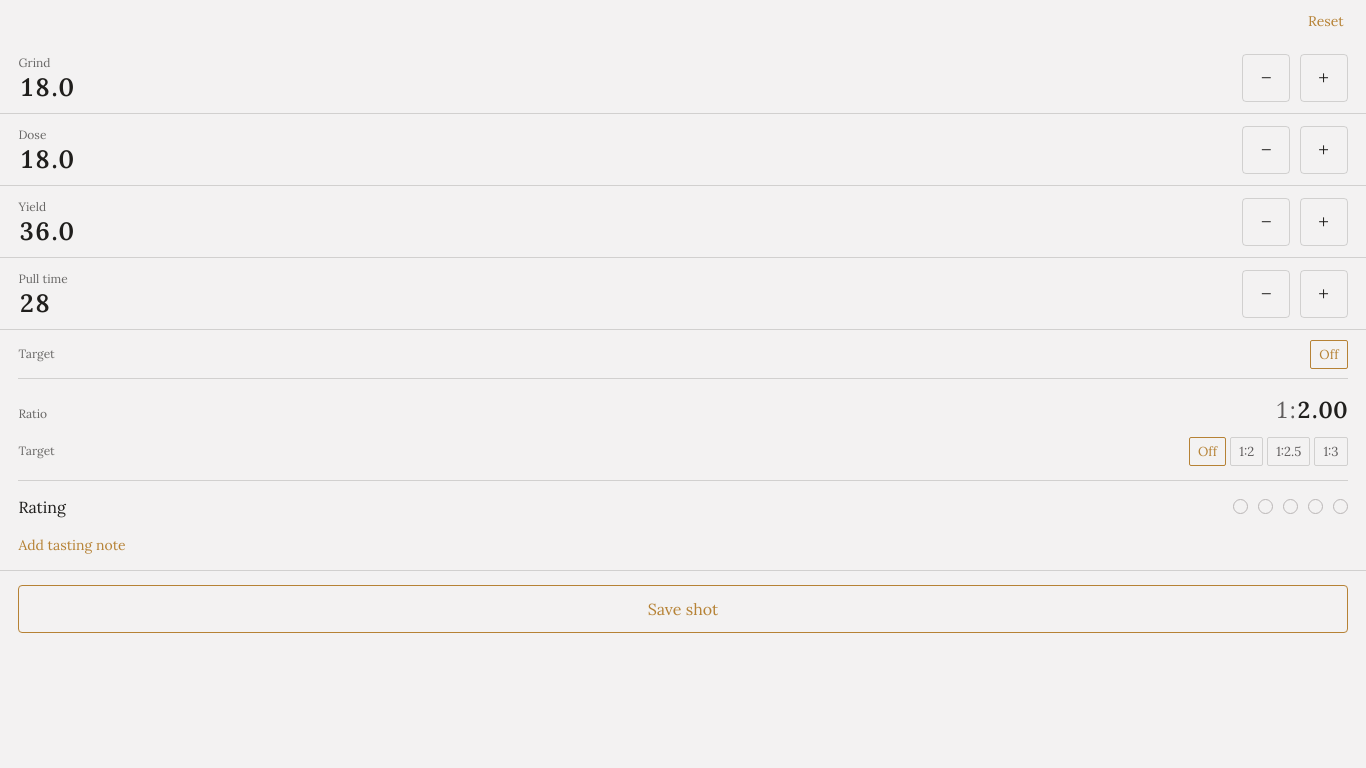
Scenario: ShotForm › clears the delta when a nudge returns the value to the reference
Click the button named "Increase dose" at (1324,150), box [1300,126,1348,174]
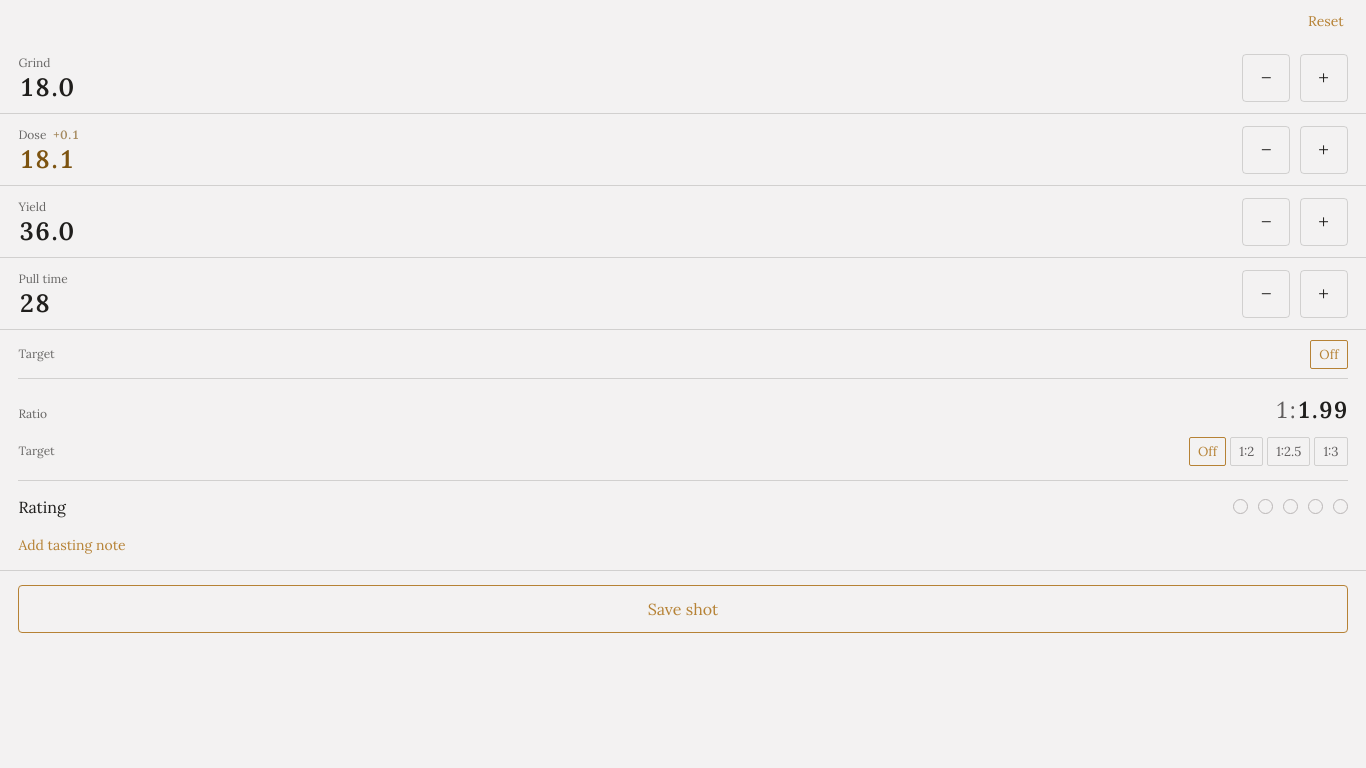
Click the button named "Decrease dose" at (1266,150), box [1242,126,1290,174]
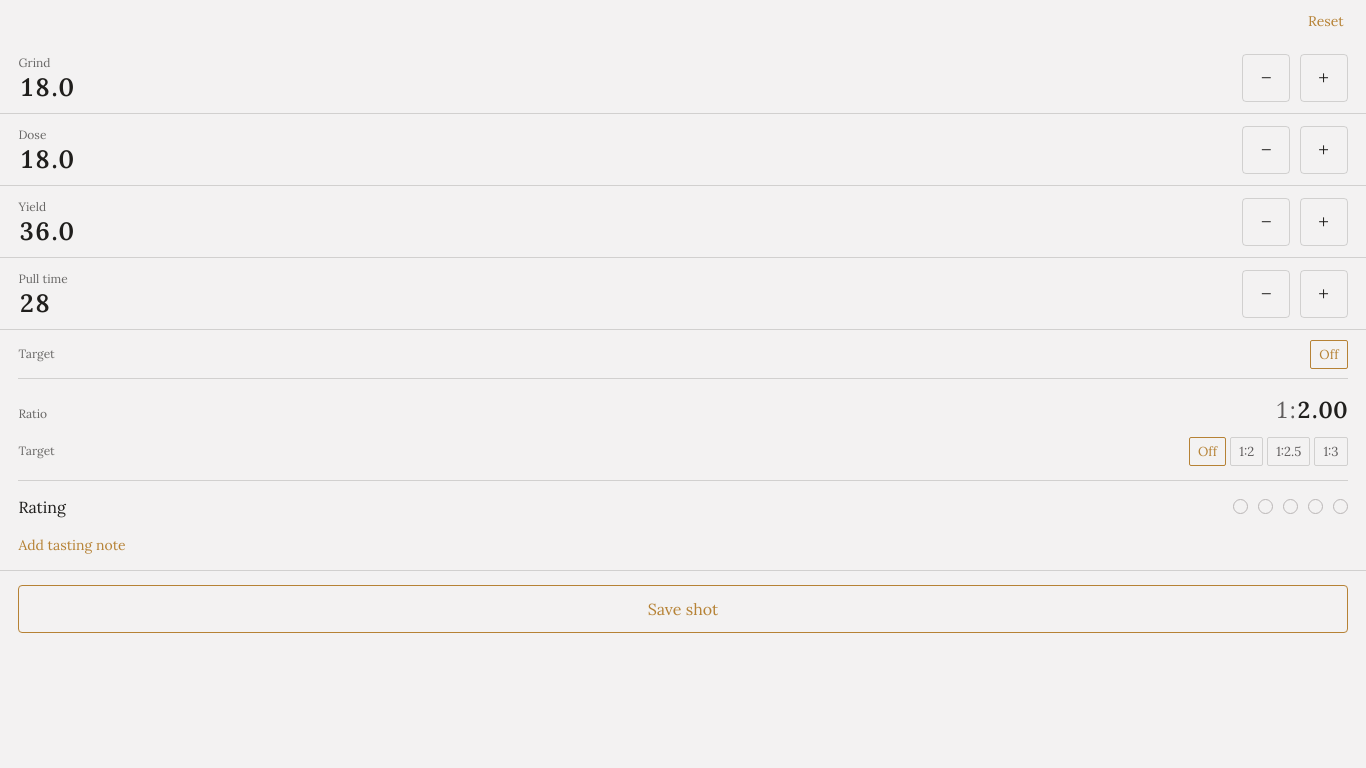
Expected: the text "+0.1" is gone
